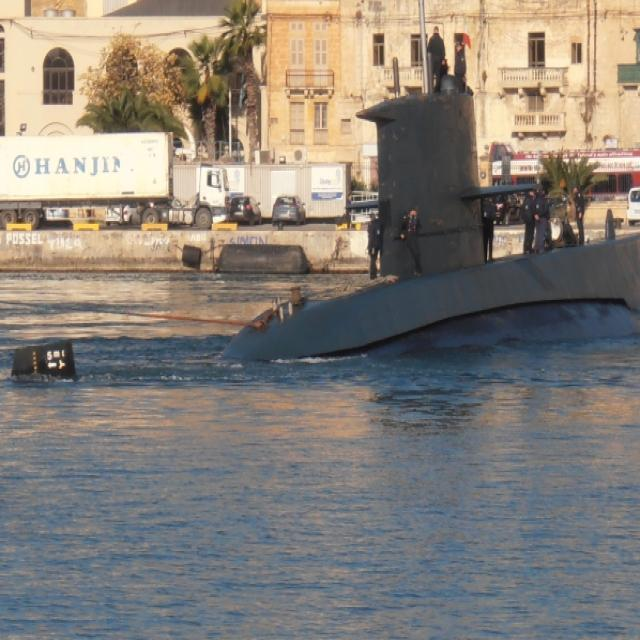submarine: (4, 1, 640, 383)
